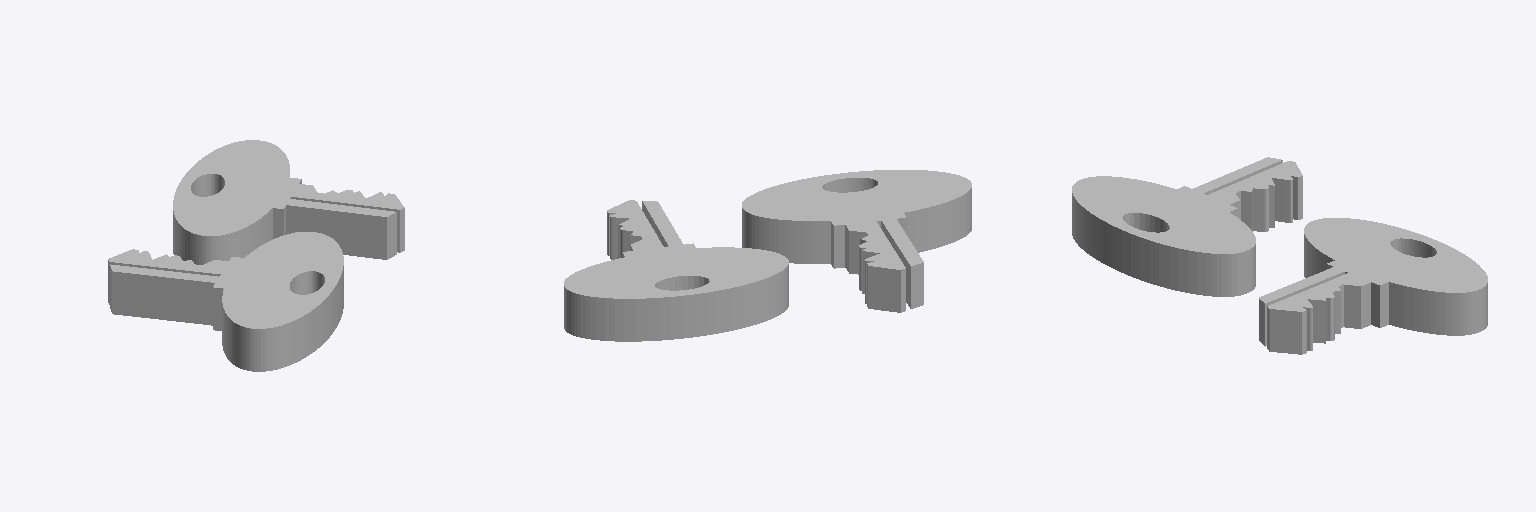
The model's file is llaves.obj.
3 views of the same model, side by side, from view 1: azimuth 30°, elevation 25°; view 2: azimuth 150°, elevation 25°; view 3: azimuth 270°, elevation 25° (orthographic).
Visible parts, largest first — view 1: obj_0; view 2: obj_0; view 3: obj_0.
Part boxes in pixels (x1,y1,x2,y2): obj_0: (108, 140, 404, 371); obj_0: (564, 170, 971, 341); obj_0: (1072, 157, 1487, 354).
Size of the model in its own units: 73.19 by 12 by 88.02.